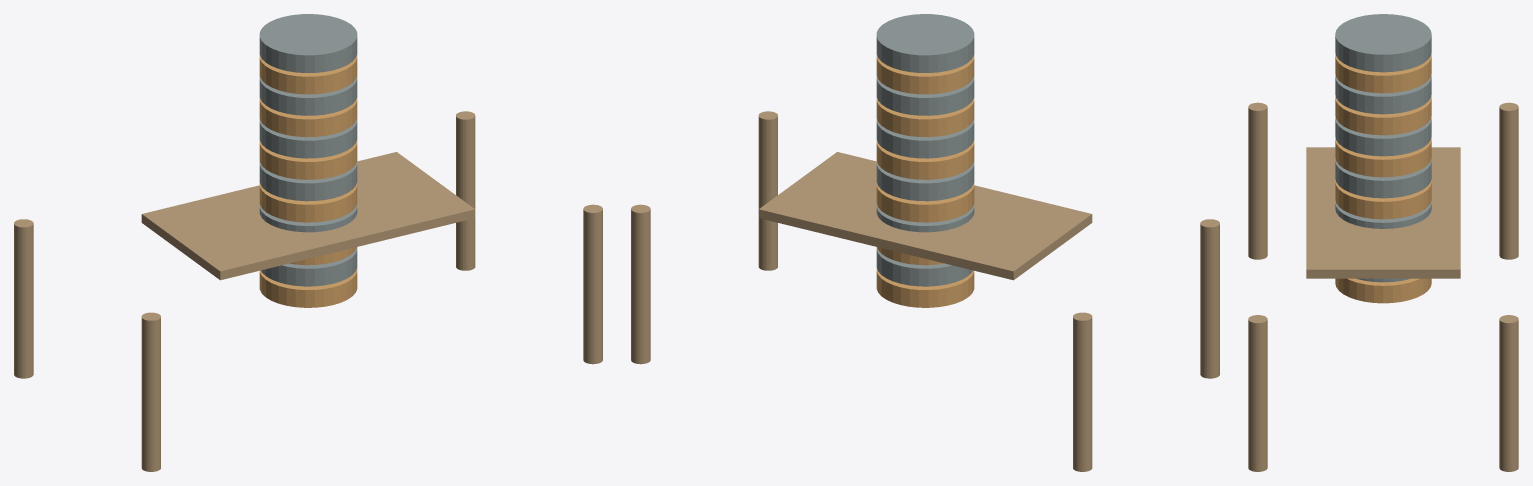
The model's file is voltaic_pile.glb.
The picture shows the model from 3 angles, left to right: view 1: azimuth 30°, elevation 25°; view 2: azimuth 150°, elevation 25°; view 3: azimuth 270°, elevation 25°; orthographic projection.
Parts seen in each view (by area): view 1: bench_top, pile_cell_11, bench_leg_-1.3_0.65, bench_leg_1.3_-0.65, bench_leg_-1.3_-0.65, bench_leg_1.3_0.65, pile_cell_9, pile_cell_5, pile_cell_8, pile_cell_4, pile_cell_6, pile_cell_10 (+4 smaller); view 2: bench_top, pile_cell_11, bench_leg_-1.3_-0.65, bench_leg_1.3_0.65, bench_leg_-1.3_0.65, bench_leg_1.3_-0.65, pile_cell_9, pile_cell_5, pile_cell_8, pile_cell_4, pile_cell_6, pile_cell_10 (+4 smaller); view 3: bench_top, pile_cell_11, bench_leg_-1.3_0.65, bench_leg_-1.3_-0.65, bench_leg_1.3_0.65, bench_leg_1.3_-0.65, pile_cell_5, pile_cell_6, pile_cell_7, pile_cell_10, pile_cell_4, pile_cell_8 (+3 smaller).
Part boxes in pixels (x1,y1,x2,y2): bench_top: (141,152,475,280); pile_cell_11: (259,14,357,72); bench_leg_-1.3_0.65: (14,219,33,378); bench_leg_1.3_-0.65: (583,204,602,364); bench_leg_-1.3_-0.65: (141,312,160,471); bench_leg_1.3_0.65: (456,111,475,270); pile_cell_9: (259,76,357,115); pile_cell_5: (259,161,357,201); pile_cell_8: (259,97,357,137); pile_cell_4: (259,183,357,222); pile_cell_6: (259,140,357,179); pile_cell_10: (259,55,357,94); bench_top: (758,152,1092,280); pile_cell_11: (876,14,974,72); bench_leg_-1.3_-0.65: (1200,219,1219,378); bench_leg_1.3_0.65: (631,204,650,364); bench_leg_-1.3_0.65: (1073,312,1092,471); bench_leg_1.3_-0.65: (758,111,777,270); pile_cell_9: (876,76,974,115); pile_cell_5: (876,161,974,201); pile_cell_8: (876,97,974,137); pile_cell_4: (876,183,974,222); pile_cell_6: (876,140,974,179); pile_cell_10: (876,55,974,94); bench_top: (1306,147,1460,278); pile_cell_11: (1335,14,1431,72); bench_leg_-1.3_0.65: (1499,102,1518,259); bench_leg_-1.3_-0.65: (1248,102,1267,259); bench_leg_1.3_0.65: (1499,315,1518,471); bench_leg_1.3_-0.65: (1248,315,1267,471); pile_cell_5: (1335,159,1431,198); pile_cell_6: (1335,138,1431,177); pile_cell_7: (1335,117,1431,156); pile_cell_10: (1335,54,1431,93); pile_cell_4: (1335,180,1431,219); pile_cell_8: (1335,96,1431,135).
Bounding box in the file's own units: 2.7 × 1.87 × 1.4.
